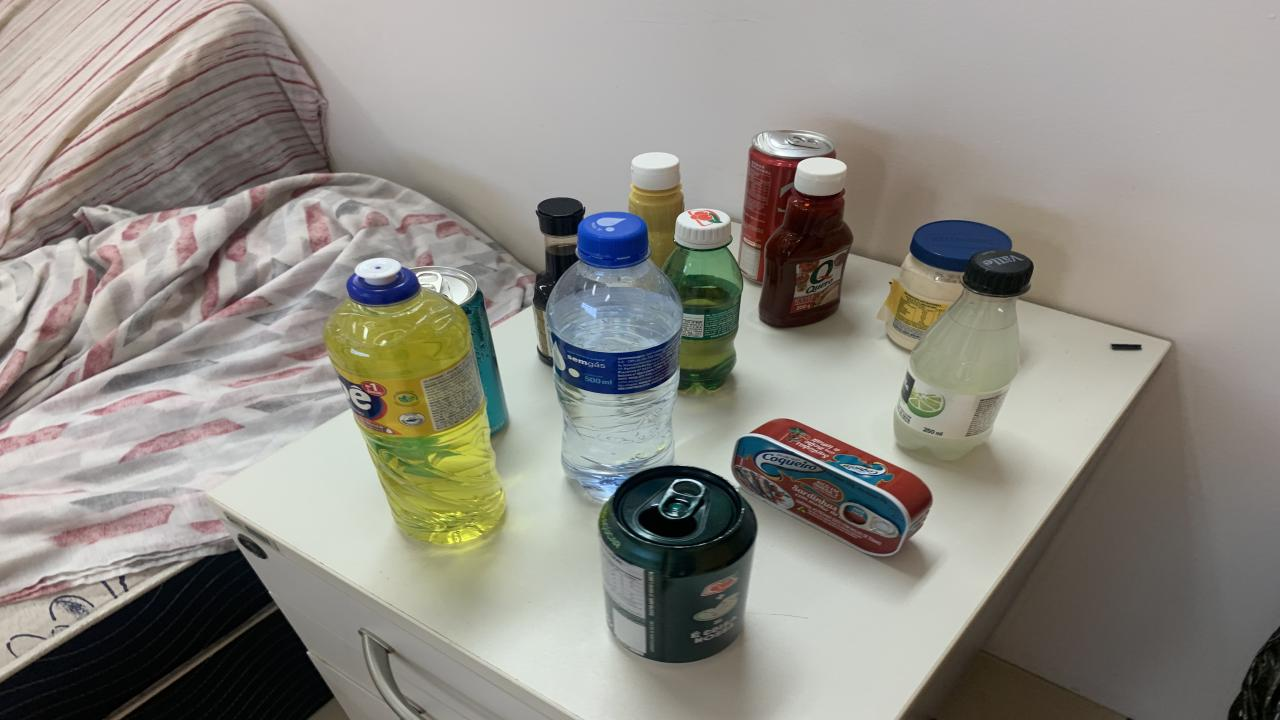Coke-Drinks: (738, 129, 840, 283)
Detergent-Cleanup_Items: (325, 259, 505, 544)
English_Sauce-Pantry_Items: (532, 197, 585, 366)
Guarana-Drinks: (662, 208, 742, 390)
Guarana_Can-Drinks: (598, 465, 758, 664)
Ketchup-Pantry_Items: (760, 158, 852, 328)
Mayonnaise-Pantry_Items: (878, 219, 1010, 351)
Mustard-Pantry_Items: (628, 152, 685, 266)
Soda-Drinks: (895, 249, 1032, 461)
Tea-Drinks: (412, 266, 510, 433)
Tuna_Can-Pantry_Items: (730, 420, 930, 555)
Water_Bottle-Drinks: (548, 212, 682, 501)
